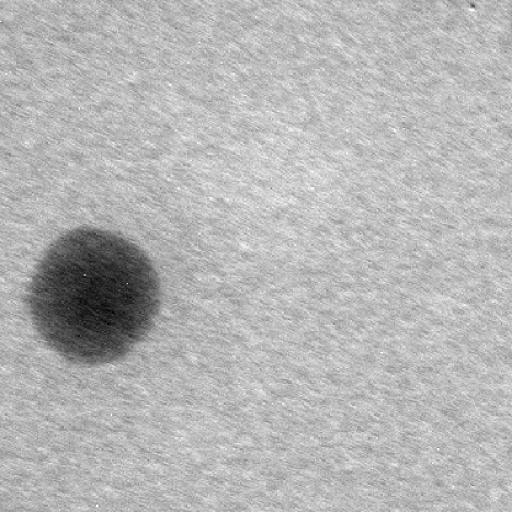Nanoparticles: (25, 226, 153, 369)
